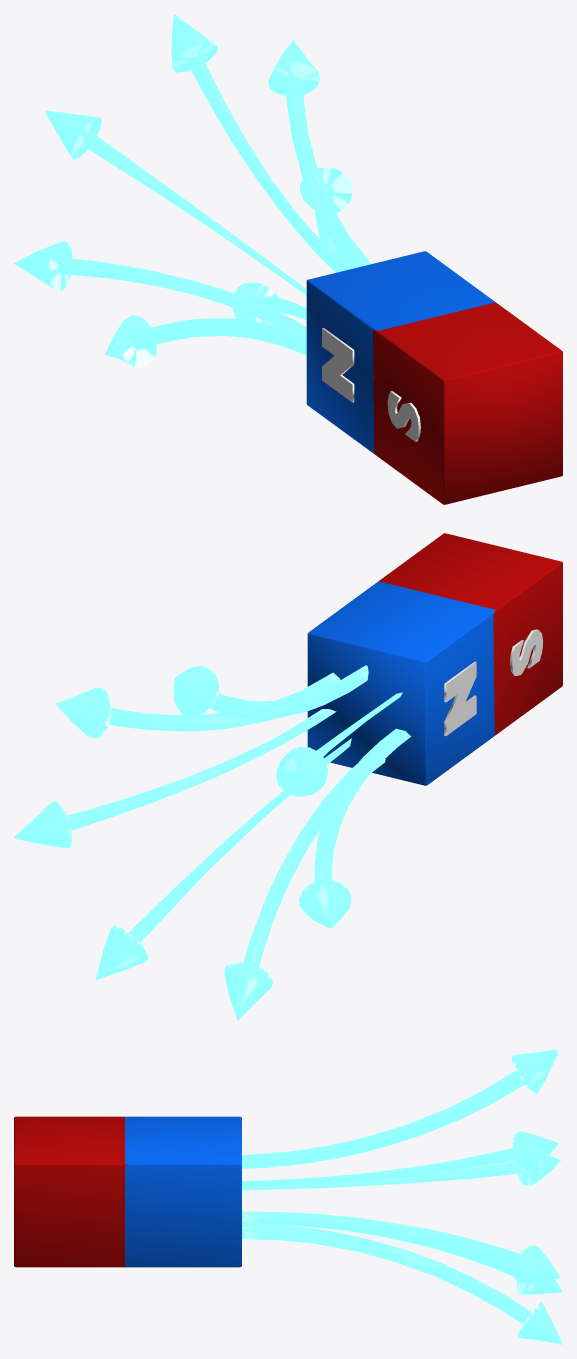
The model's file is iman-transformed.glb.
3 views of the same model, one above another, from view 1: azimuth 30°, elevation 25°; view 2: azimuth 150°, elevation 25°; view 3: azimuth 270°, elevation 25° (orthographic). The views are drawn at different scales.
Visible parts, largest first — view 1: IMANC (×3), FIELD_IMAN; view 2: IMANC (×3), FIELD_IMAN; view 3: IMANC (×2), FIELD_IMAN.
Boxes of the visible parts, x1=… form: IMANC (×3): x1=306, y1=251, x2=562, y2=504; FIELD_IMAN: x1=14, y1=14, x2=371, y2=367; IMANC (×3): x1=307, y1=533, x2=562, y2=785; FIELD_IMAN: x1=14, y1=665, x2=410, y2=1020; IMANC (×2): x1=14, y1=1116, x2=241, y2=1267; FIELD_IMAN: x1=242, y1=1049, x2=562, y2=1344.
Size of the model in its own units: 531 by 520 by 961.
4 materials, 1 textured.
